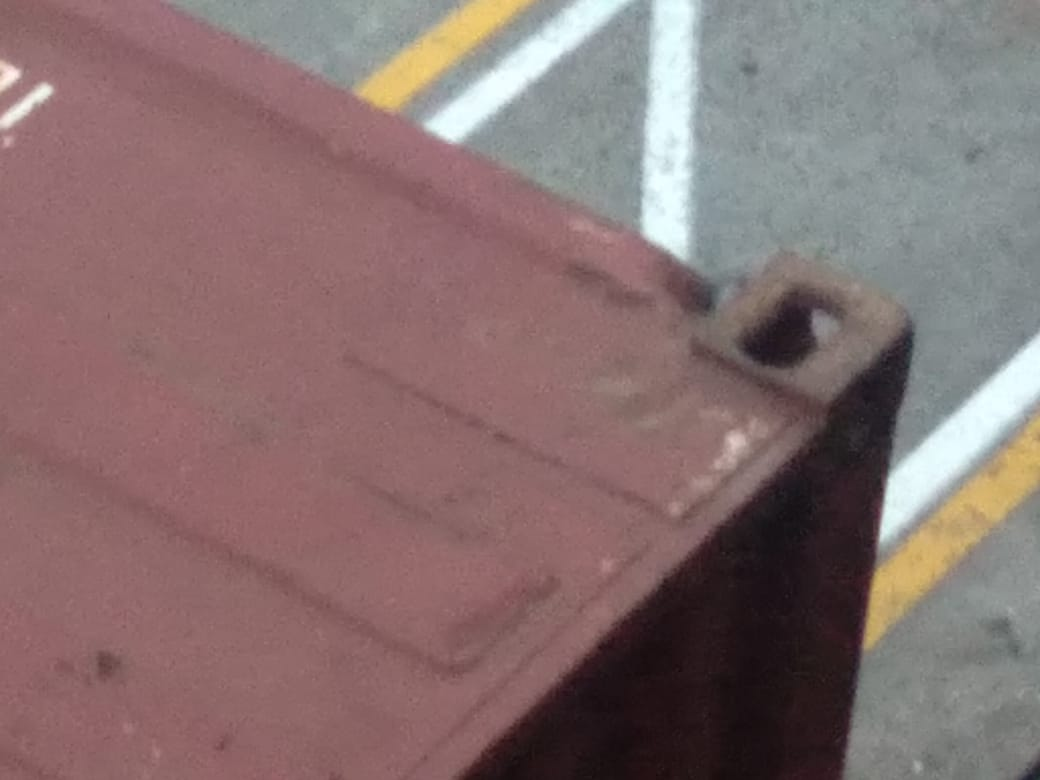severe: (638, 249, 752, 348)
